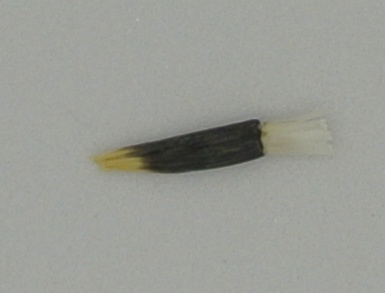เมล็ดดีติดกัน: (81, 101, 340, 181)
